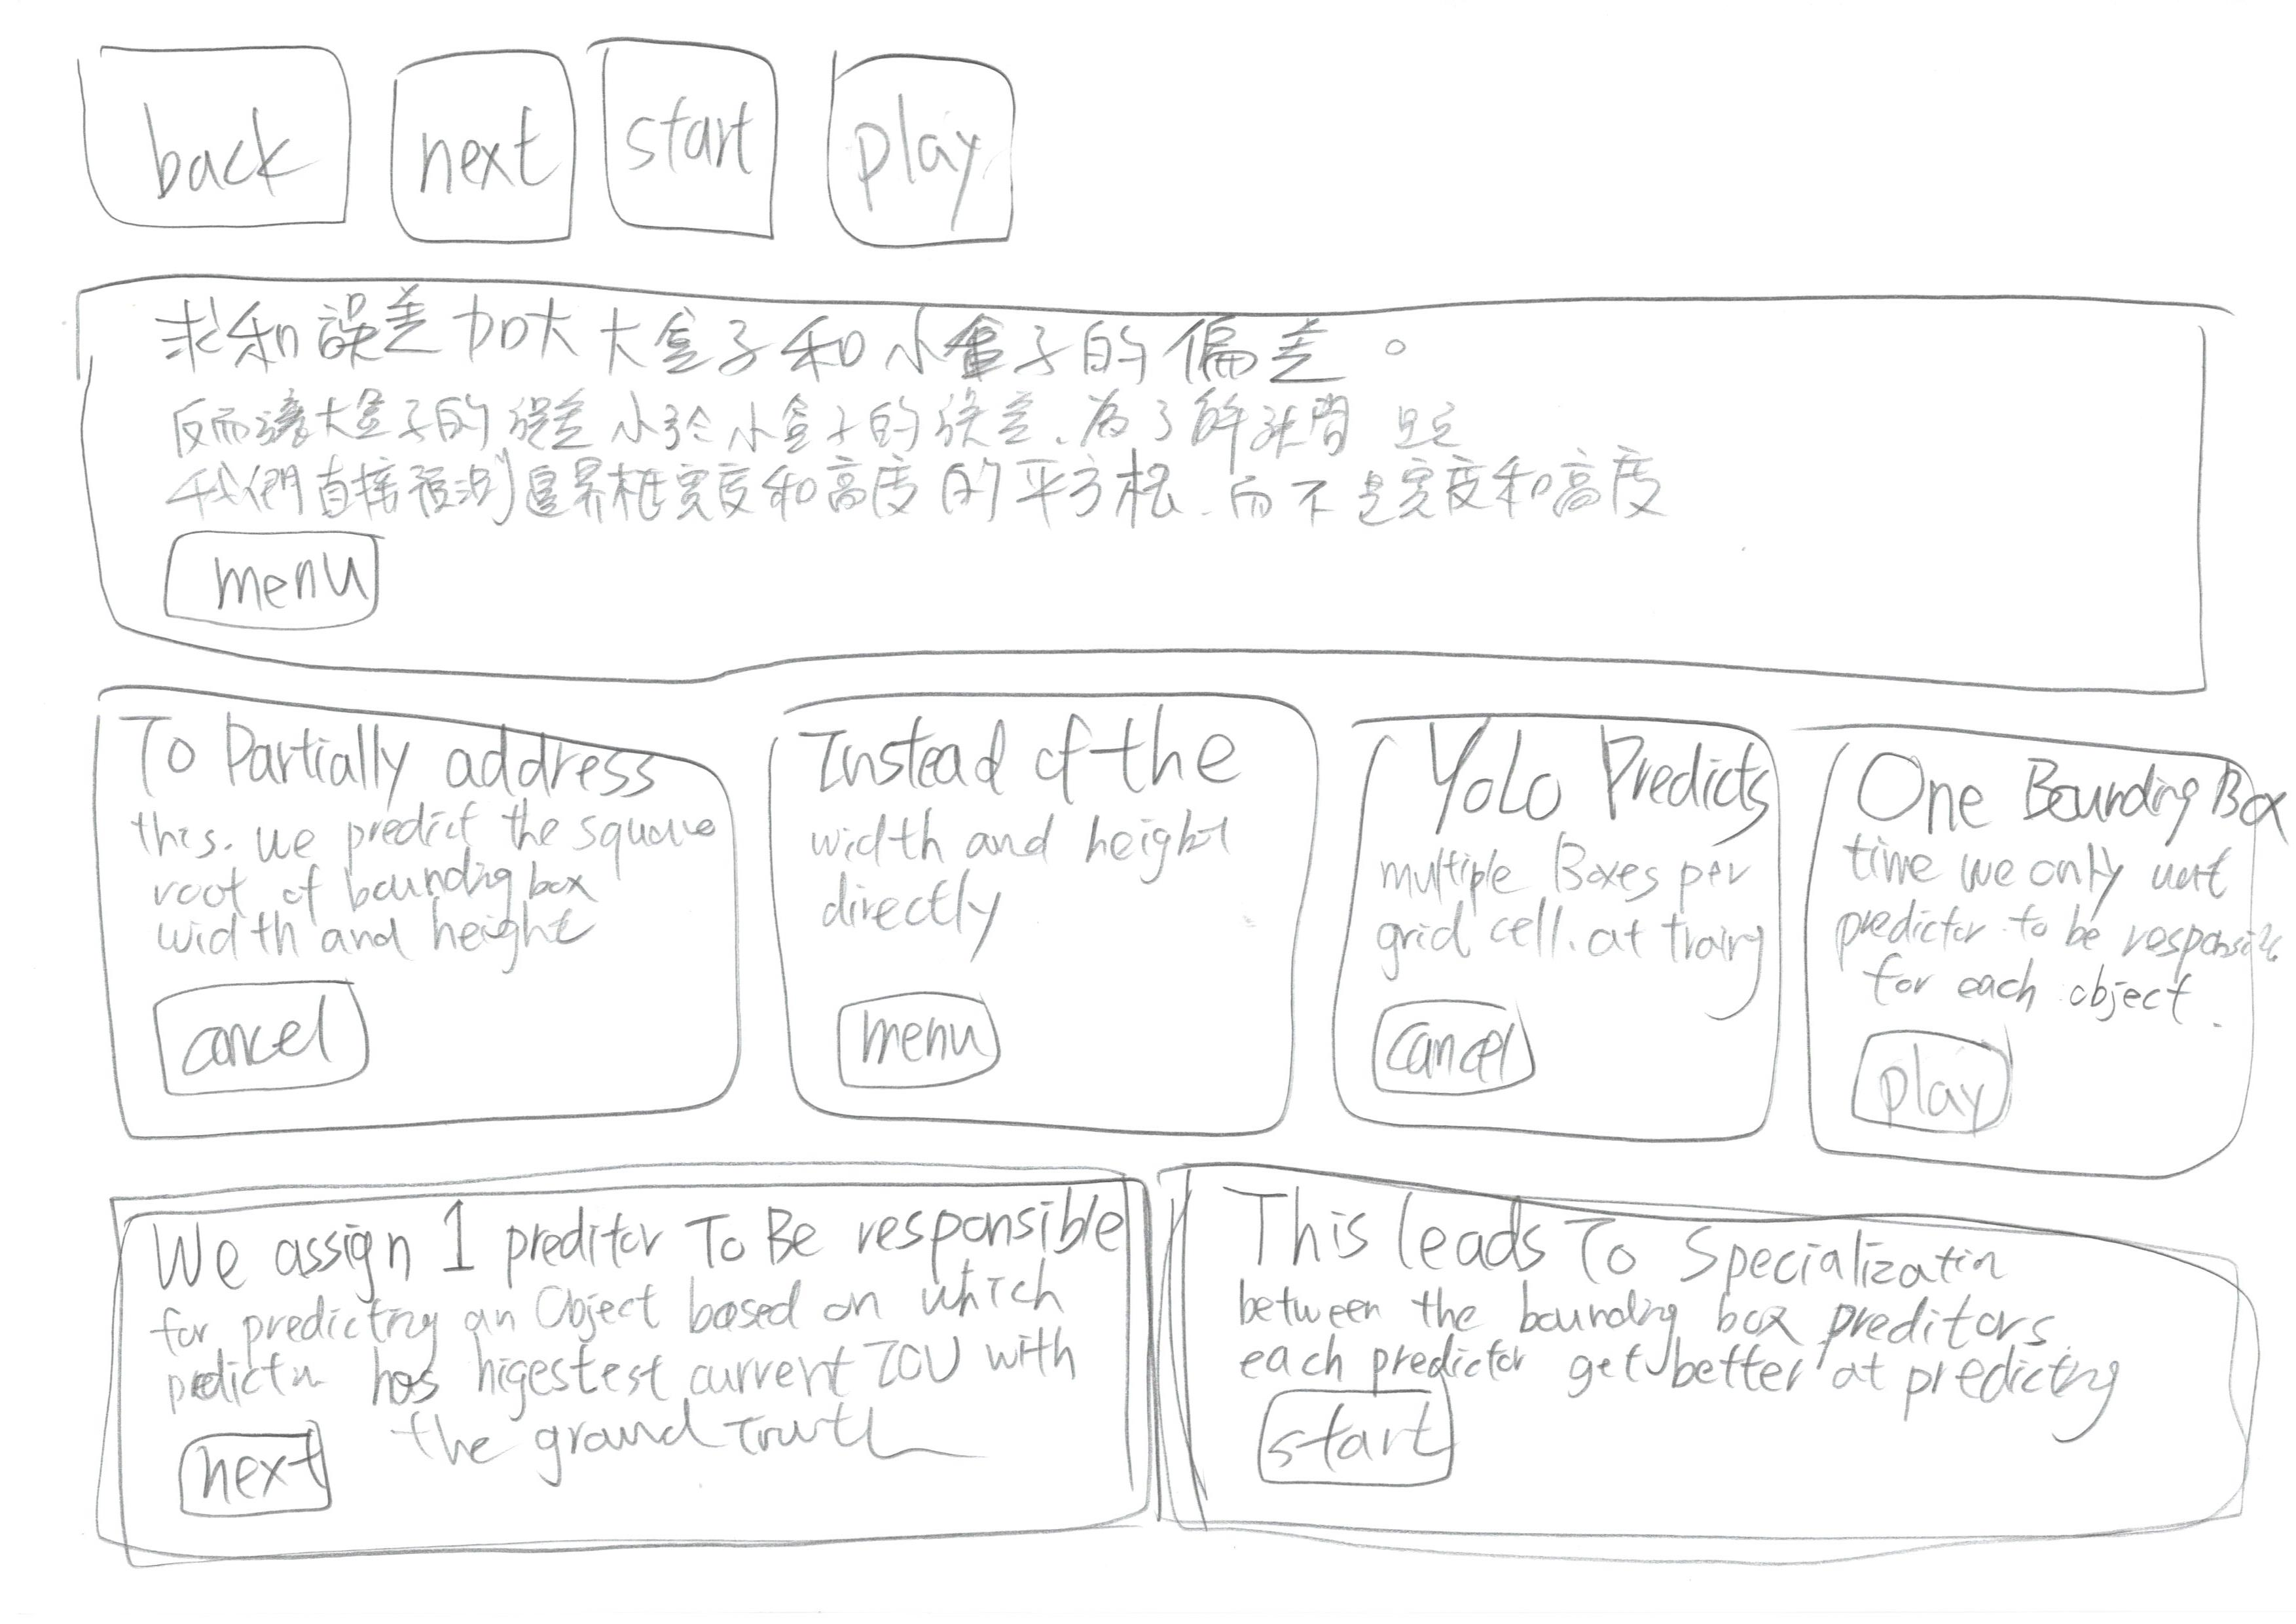back: (33, 18, 374, 250)
cancel: (121, 970, 383, 1098), (1350, 982, 1565, 1127)
double: (23, 1137, 1173, 1585), (1146, 1142, 2296, 1589)
menu: (148, 526, 406, 650), (817, 990, 1028, 1097)
next: (383, 21, 592, 274), (162, 1392, 348, 1531)
play: (807, 26, 1046, 281), (1811, 1016, 2057, 1172)
quadruple: (26, 659, 767, 1174), (735, 652, 1333, 1167), (1779, 656, 2294, 1211), (1296, 643, 1809, 1200)
row: (14, 670, 2296, 1200), (14, 244, 2296, 736), (14, 1165, 2296, 1624), (14, 0, 2296, 264)
single: (32, 255, 2296, 733)
small-title: (116, 295, 1380, 385), (1227, 1183, 2013, 1287), (130, 1195, 1108, 1262), (127, 708, 670, 801), (798, 696, 1257, 782), (1380, 724, 1763, 826), (1832, 752, 2296, 835)
start: (580, 19, 821, 286), (1241, 1383, 1515, 1503)
text: (155, 385, 1688, 522), (1227, 1280, 2138, 1399), (160, 1290, 1058, 1381), (1827, 826, 2252, 1014), (141, 808, 673, 951), (814, 803, 1273, 939), (397, 1399, 1023, 1492), (1380, 837, 1740, 975)
